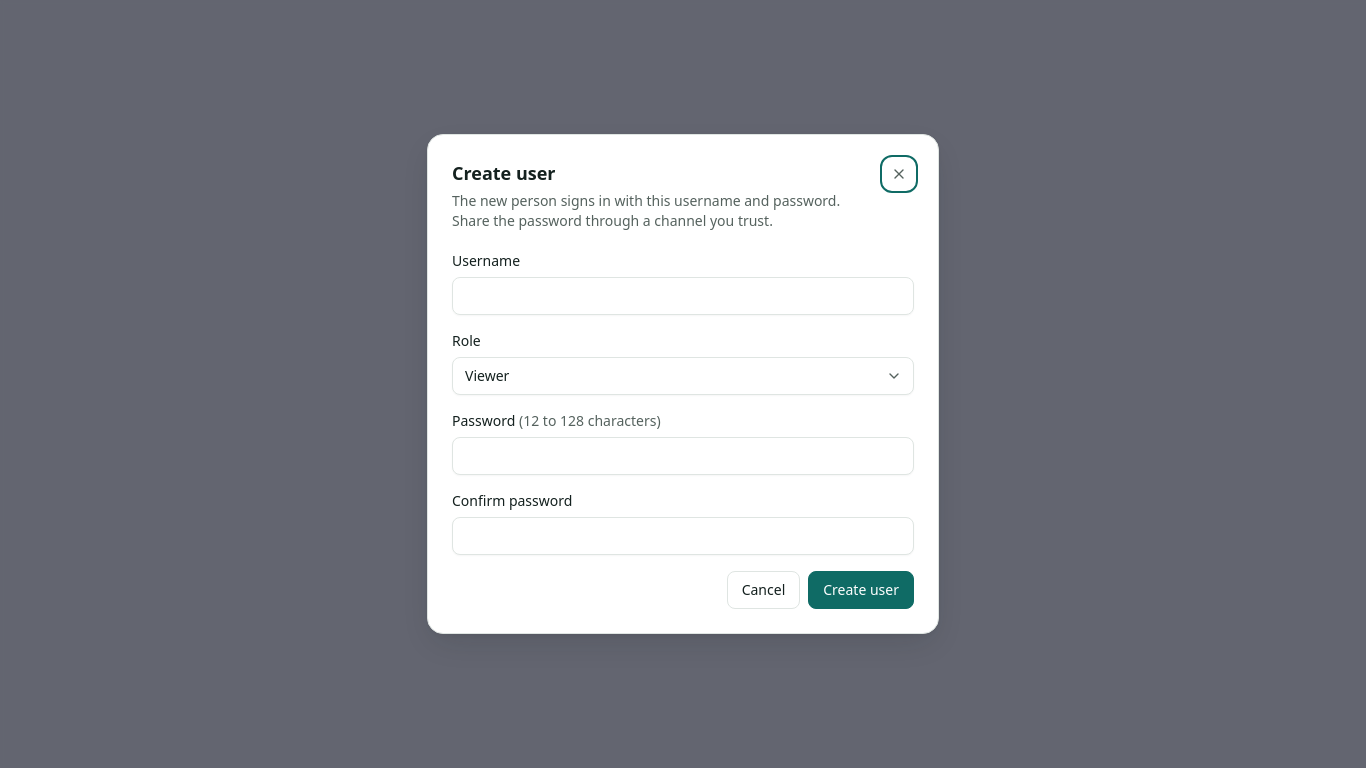
Test: CreateUserDialog › blocks submit when the two passwords differ
Type "ops.team" into the field labelled "Username" at (683, 296), box [452,277,914,315]
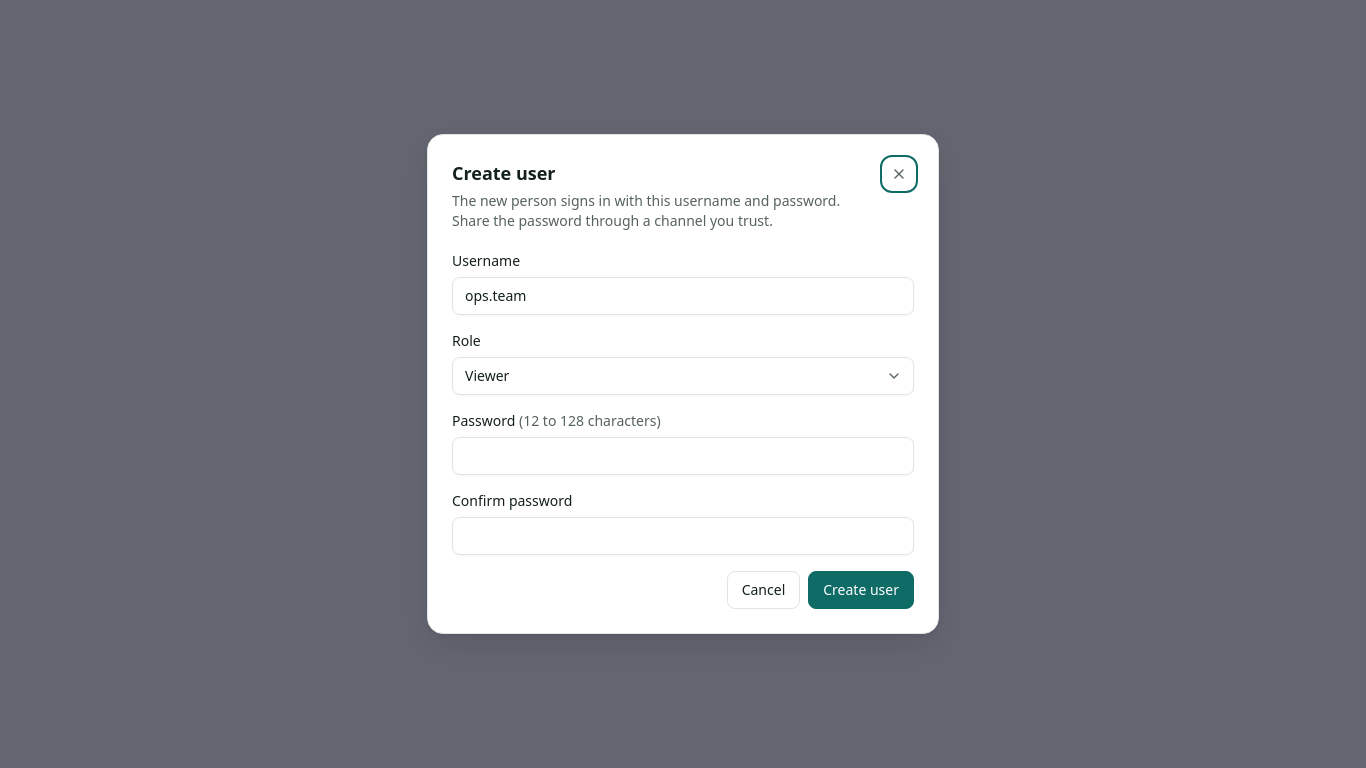
Type "correct-horse-battery" into the password field labelled "Password (12 to 128 characters)" at (683, 456), box [452,437,914,475]
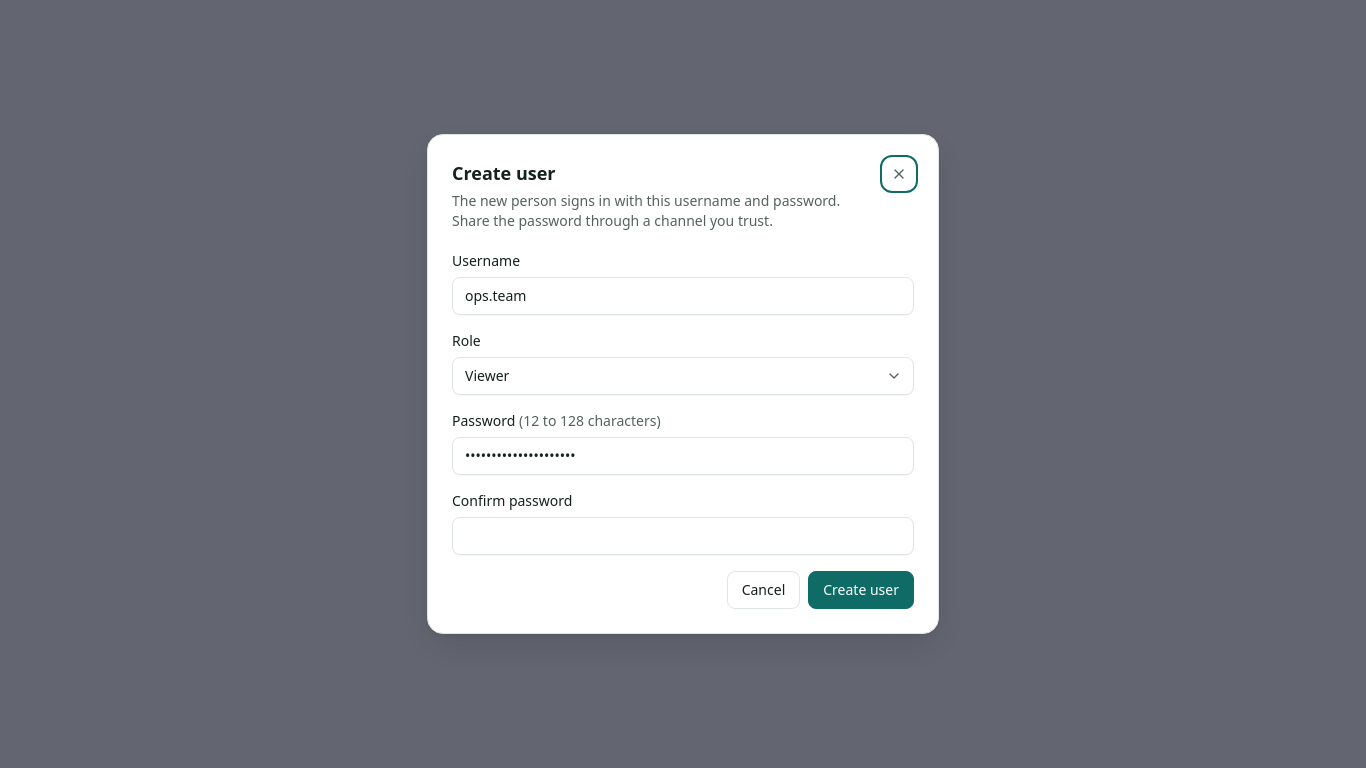
Type "correct-horse-batteryx" into the password field labelled "Confirm password" at (683, 536), box [452,517,914,555]
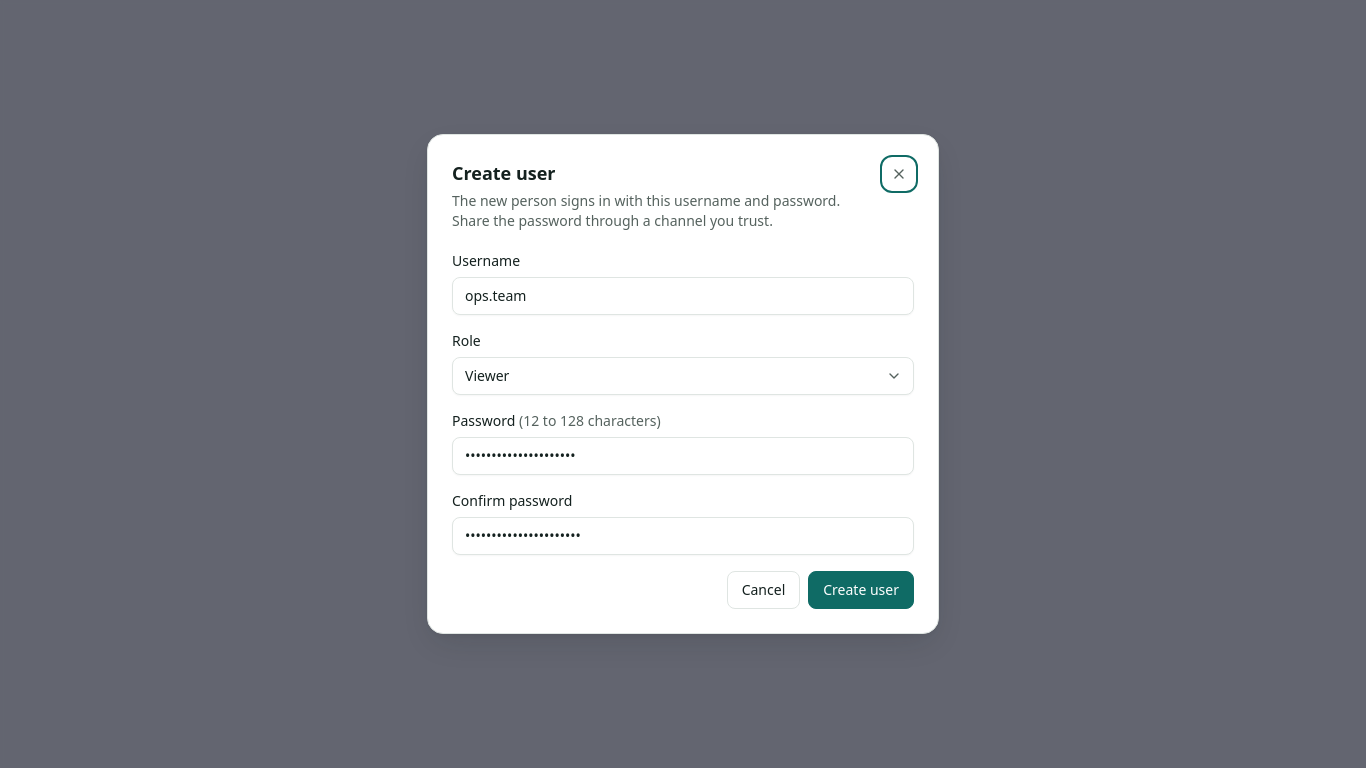
Click the button "Create user" at (861, 590), box [808,571,914,609]
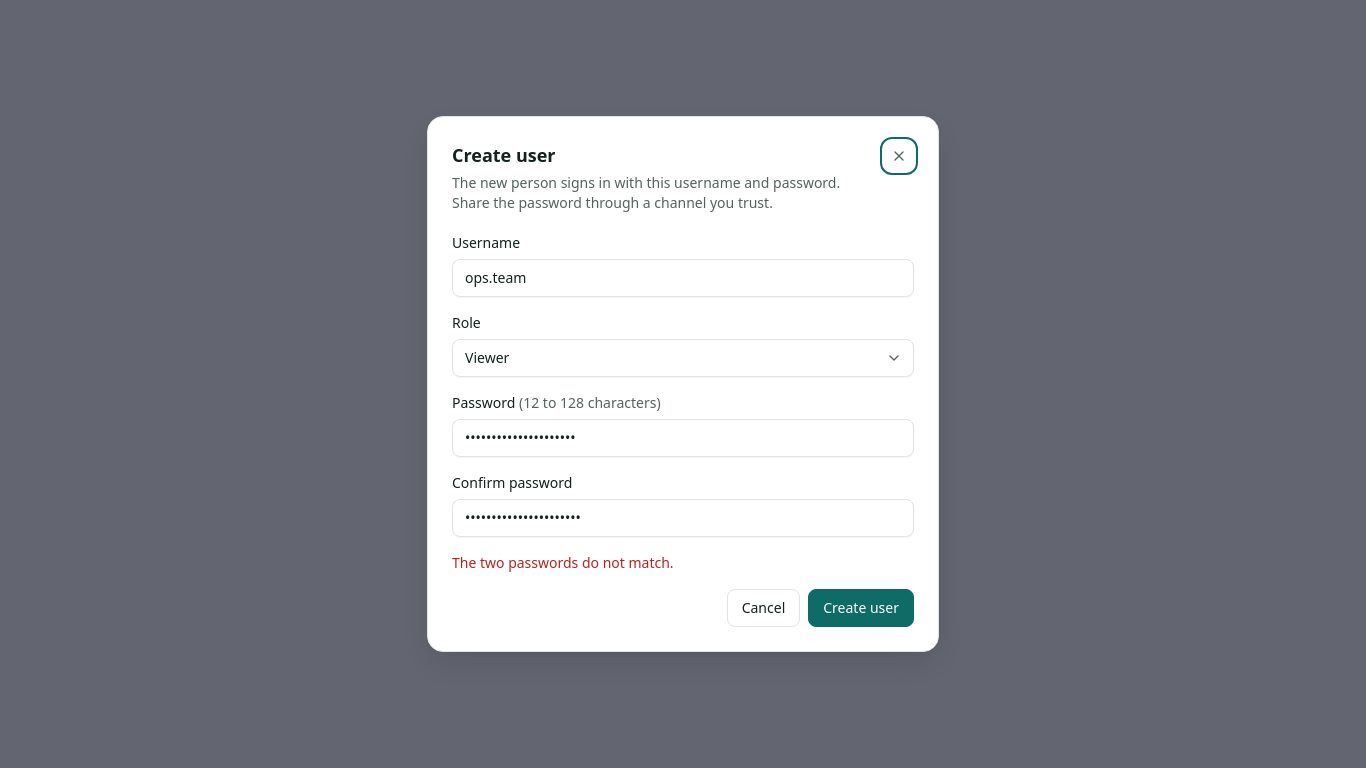
Now the message reads "The two passwords do not match.", box [452,553,674,572]
